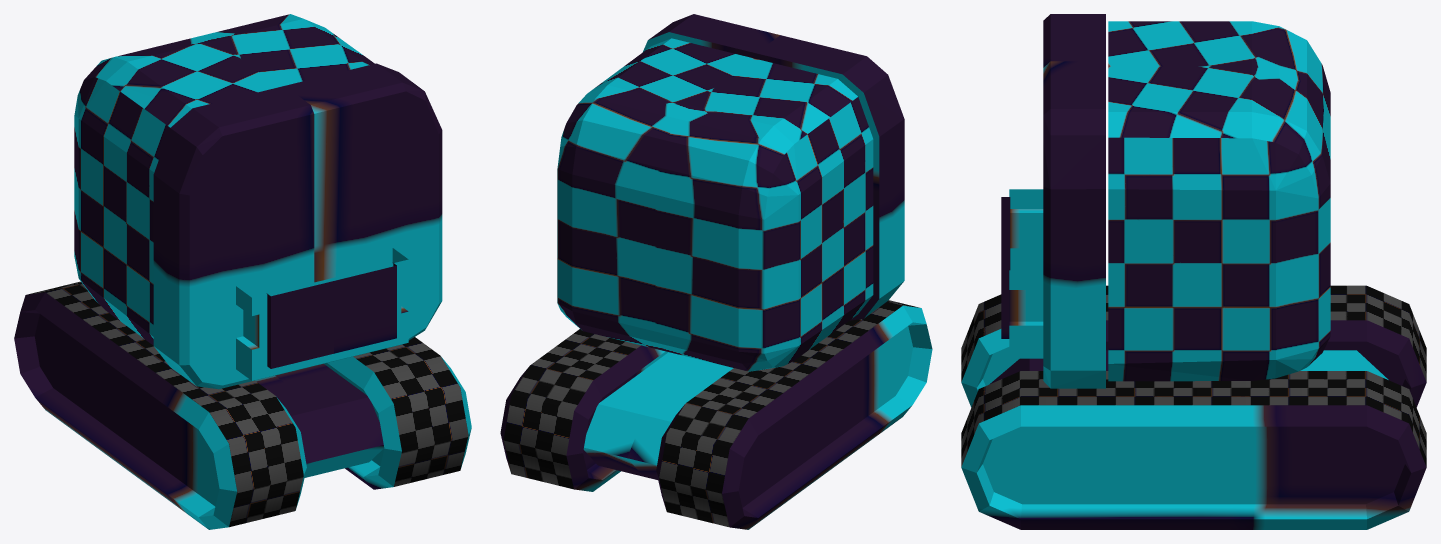
File: land_unit.FBX
The picture shows the model from 3 angles, left to right: view 1: azimuth 30°, elevation 25°; view 2: azimuth 150°, elevation 25°; view 3: azimuth 270°, elevation 25°; orthographic projection. The views are drawn at different scales.
Visible parts, largest first — view 1: land)unit; view 2: land)unit; view 3: land)unit.
Boxes of the visible parts, x1,y1,x2,y2 form: land)unit: (14,14,471,529); land)unit: (500,14,932,529); land)unit: (961,14,1426,529).
Size of the model in its own units: 62.48 by 87.8 by 90.58.
